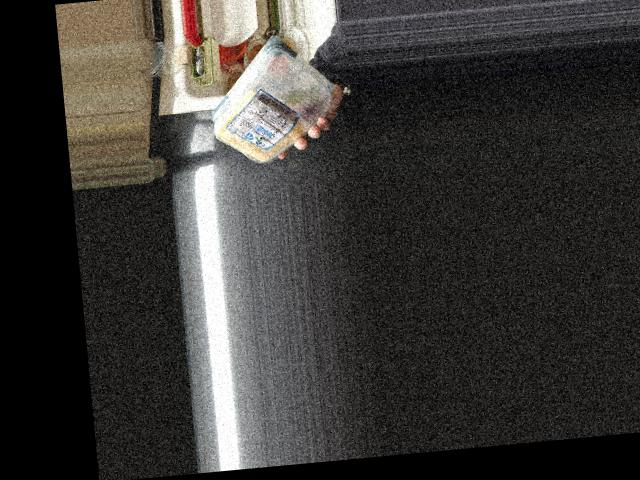cheese: (205, 48, 338, 160)
